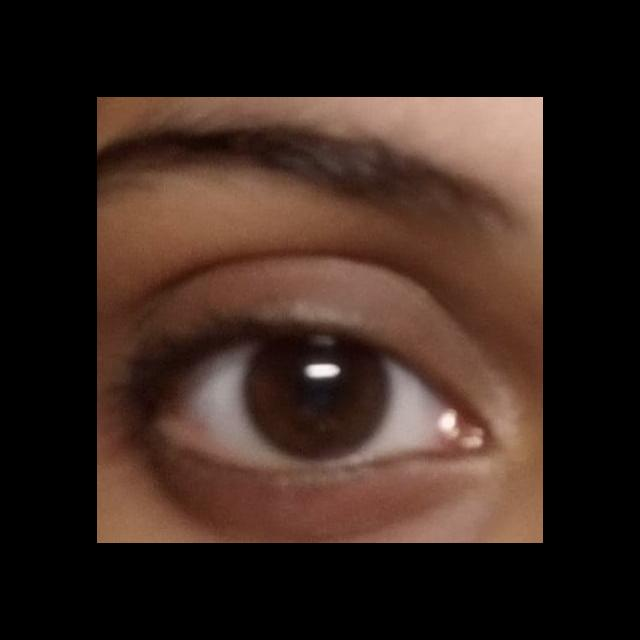eye: (164, 332, 454, 461)
iris: (247, 336, 391, 460)
